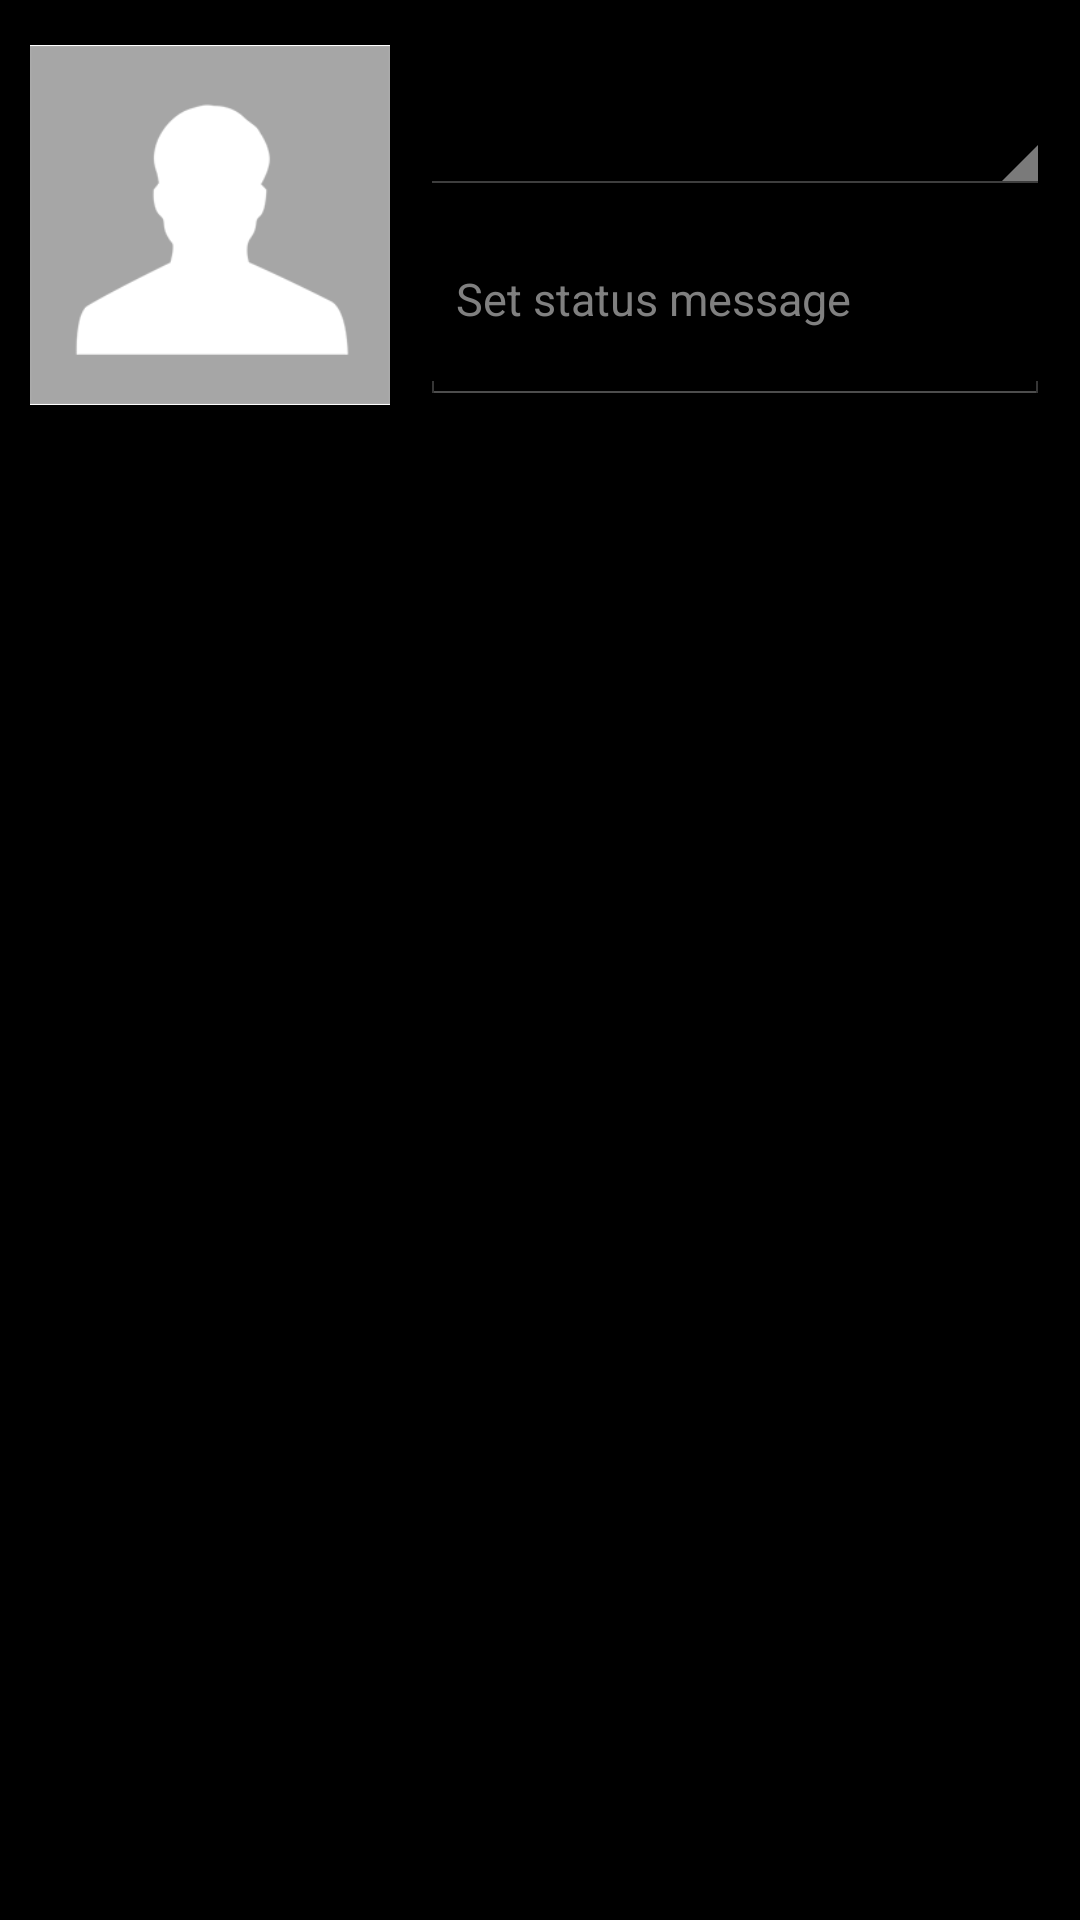

Icon bounding boxes for this 1080px x 1920px phone screenshot, format rect(x1, y1, x2, y2):
personphoto: rect(30, 45, 390, 405)
